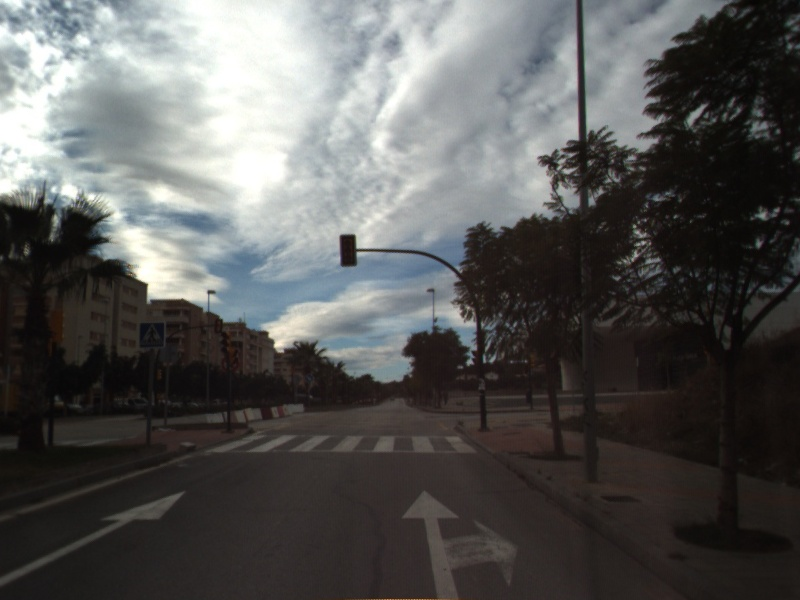STRAIGHT: (1, 489, 188, 588)
STRAIGHT_RIGHT: (399, 488, 521, 600)
